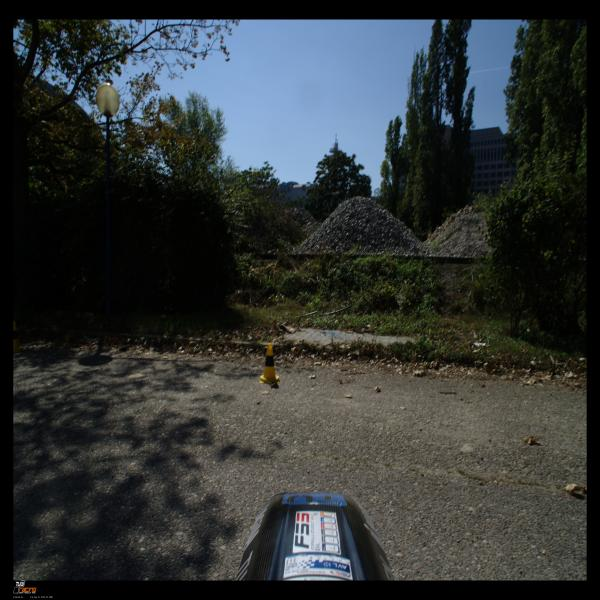yellow_cone: (259, 343, 280, 384)
